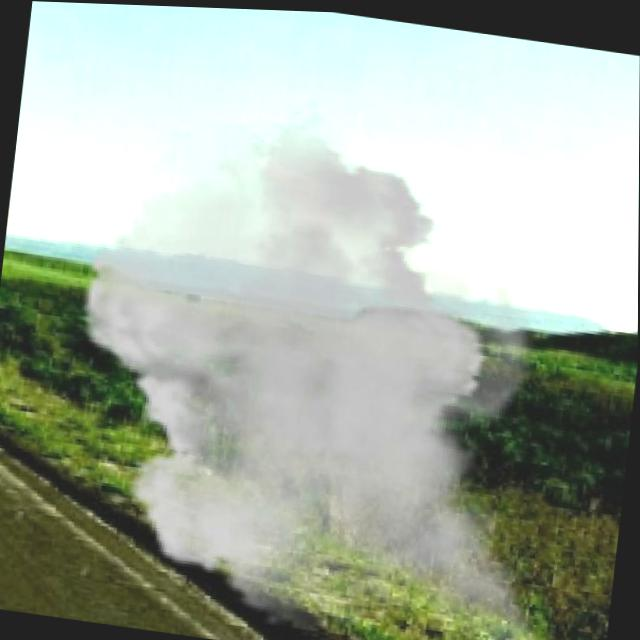no_helmet: (34, 64, 639, 640)
